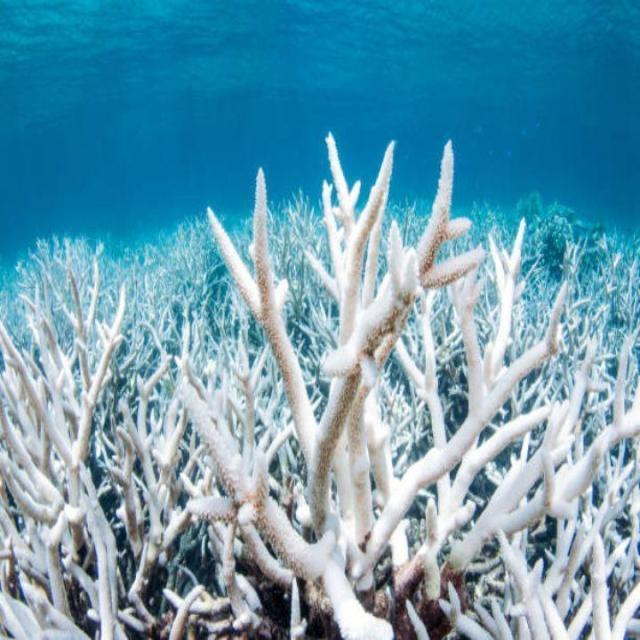Bleached: (4, 131, 640, 640)
